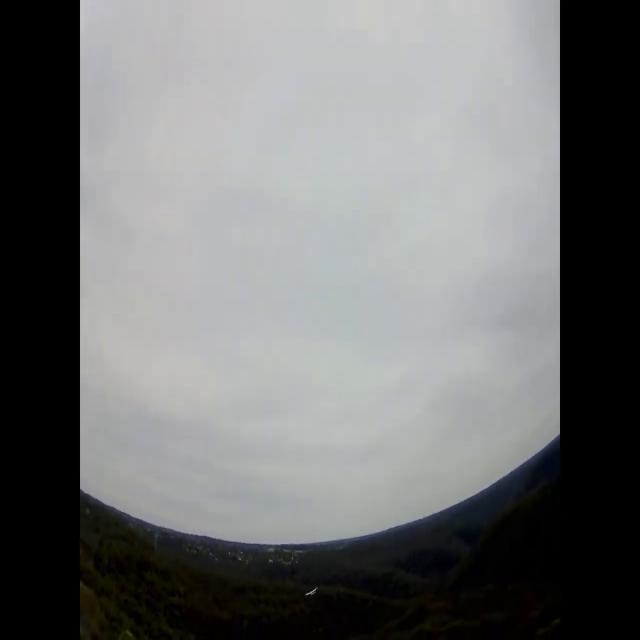iha: (305, 590, 317, 595)
